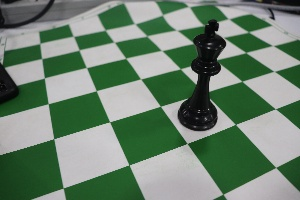black_king: (179, 4, 221, 140)
